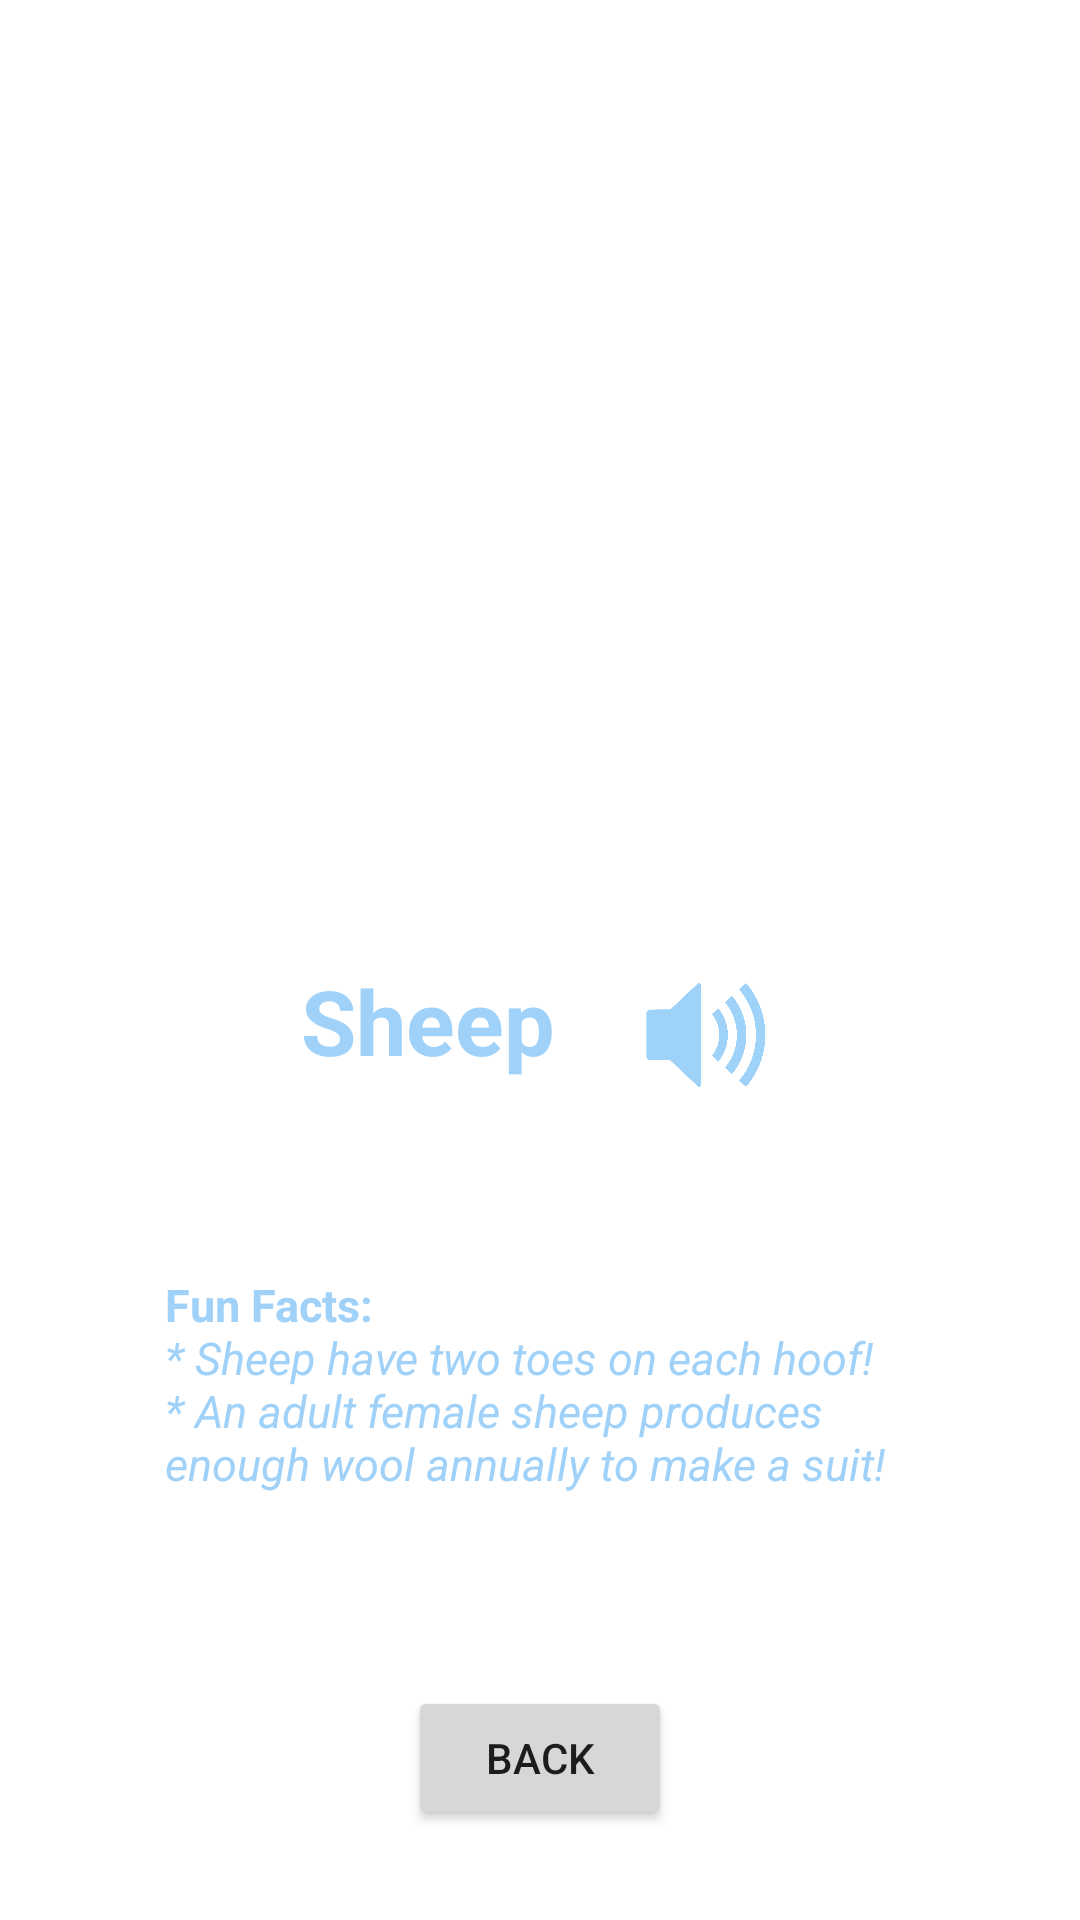

Point at icon controls on the screen. Image size 1080×1920, points as (x=x, y=y).
volume: (x=705, y=1035)
